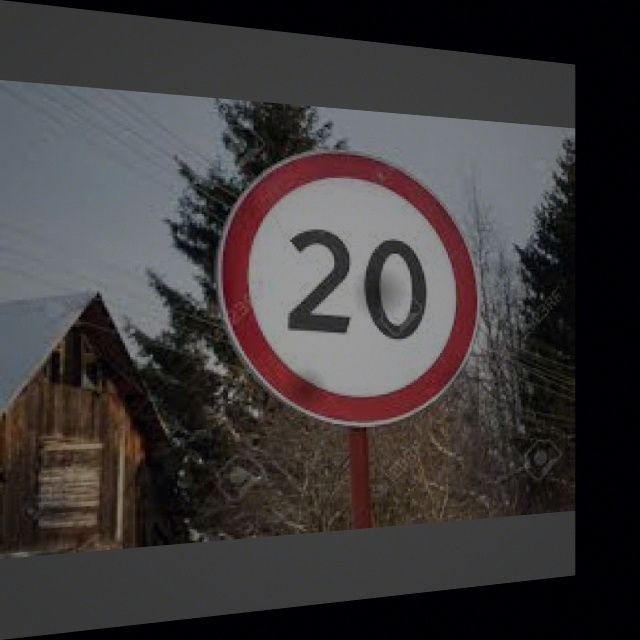Speed_Limit_20: (219, 142, 479, 427)
